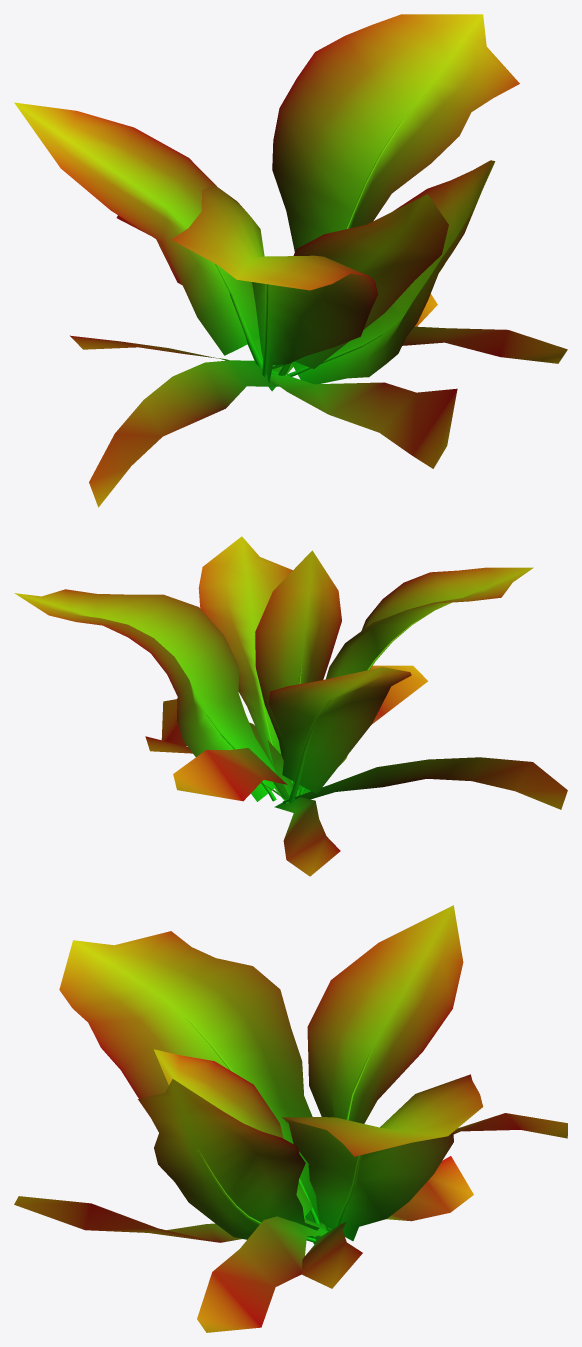
The model's file is Silver Lady Fern_LOD1_Var3_ubolejkia.fbx.
3 views of the same model, one above another, from view 1: azimuth 30°, elevation 25°; view 2: azimuth 150°, elevation 25°; view 3: azimuth 270°, elevation 25° (orthographic). The views are drawn at different scales.
Visible parts, largest first — view 1: _859c_Var3_LOD1; view 2: _859c_Var3_LOD1; view 3: _859c_Var3_LOD1.
Boxes of the visible parts, x1,y1,x2,y2 form: _859c_Var3_LOD1: (14,14,567,507); _859c_Var3_LOD1: (14,536,567,876); _859c_Var3_LOD1: (14,905,567,1332).
Bounding box in the file's own units: 127 × 61.8 × 121.
